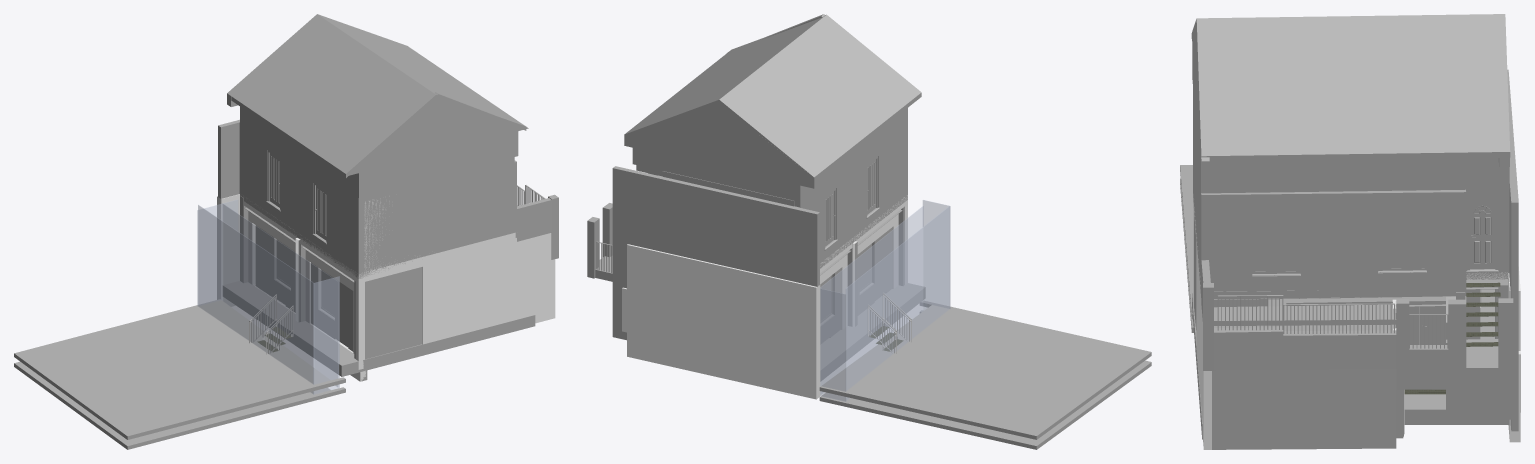
Rendered from FR_Chaville_Existing1.gltf.
The picture shows the model from 3 angles, left to right: view 1: azimuth 30°, elevation 25°; view 2: azimuth 150°, elevation 25°; view 3: azimuth 270°, elevation 25°; orthographic projection. The views are drawn at different scales.
Parts seen in each view (by area): view 1: Walls, Floors, Roofs, Curtain Panels, Doors, Structural Columns, Windows; view 2: Walls, Floors, Roofs, Curtain Panels, Doors, Windows, Structural Columns; view 3: Walls, Roofs, Floors, Windows, Doors, Stairs, Structural Framing, Top Rails, Structural Columns.
Part boxes in pixels (x1,y1,x2,y2): Walls: (217,92,558,381); Floors: (14,117,535,449); Roofs: (227,14,526,177); Curtain Panels: (197,200,339,394); Doors: (266,150,326,244); Structural Columns: (240,196,355,358); Windows: (275,239,347,347); Walls: (587,14,907,399); Floors: (595,117,1151,449); Roofs: (624,14,921,178); Curtain Panels: (820,200,950,401); Doors: (824,156,879,250); Windows: (820,243,873,325); Structural Columns: (847,207,904,326); Walls: (1192,20,1520,449); Roofs: (1191,14,1510,161); Floors: (1180,88,1509,439); Windows: (1252,202,1426,275); Doors: (1417,200,1498,344); Stairs: (1404,282,1500,394); Structural Framing: (1214,286,1498,307); Top Rails: (1218,295,1448,314); Structural Columns: (1456,285,1508,338).
Bounding box in the file's own units: 18.51 × 11.03 × 9.05.
9 materials, 1 textured.
